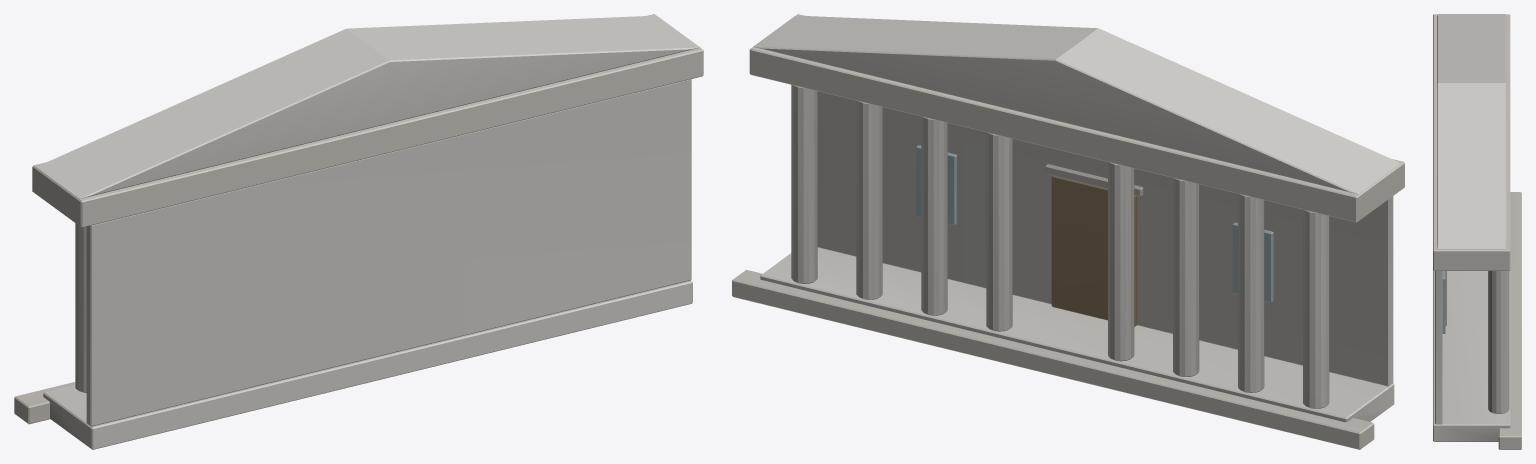
The model's file is facade_townhall.glb.
3 views of the same model, side by side, from view 1: azimuth 30°, elevation 25°; view 2: azimuth 150°, elevation 25°; view 3: azimuth 270°, elevation 25° (orthographic). The views are drawn at different scales.
Bounding box in the file's own units: 30 × 14 × 4.6.
